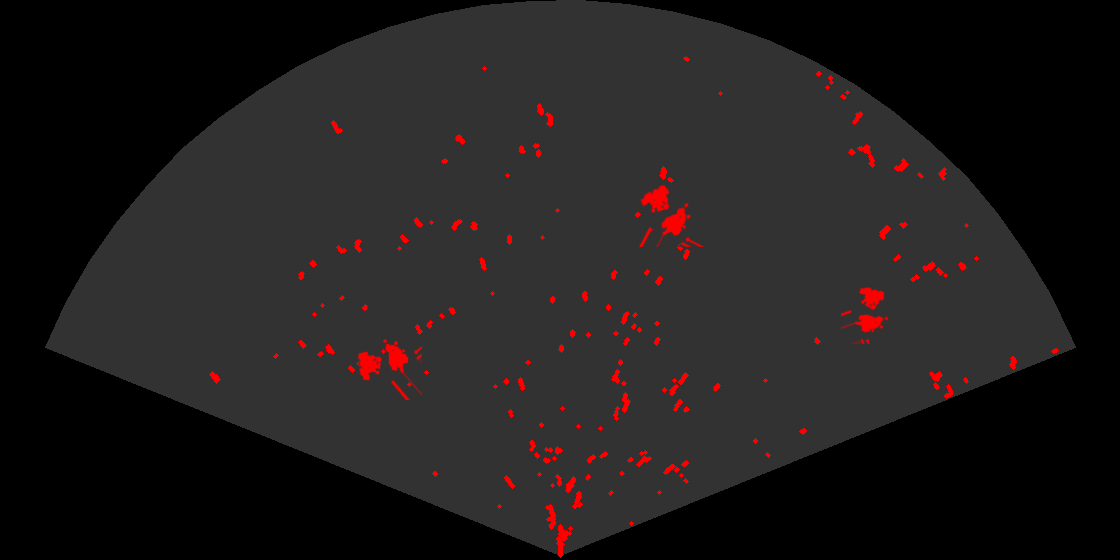cage: (637, 183, 706, 247), (356, 337, 422, 400), (841, 285, 890, 344)
